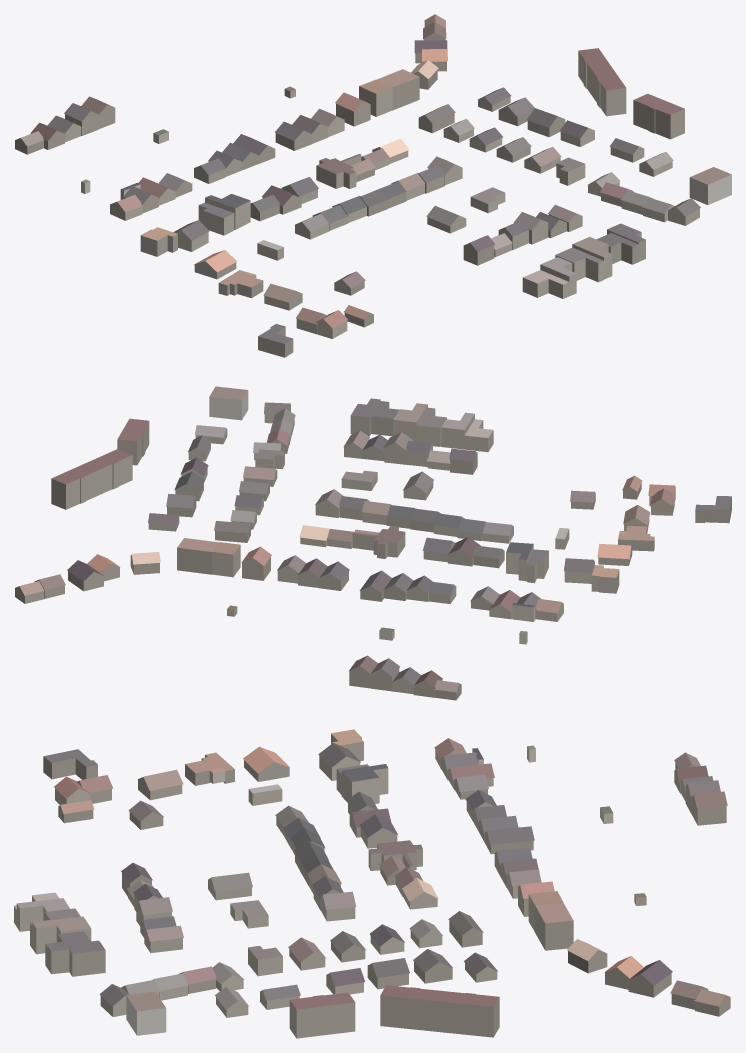
The picture shows the model from 3 angles, top to bottom: view 1: azimuth 30°, elevation 25°; view 2: azimuth 150°, elevation 25°; view 3: azimuth 270°, elevation 25°; orthographic projection. The views are drawn at different scales.
Parts seen in each view (by area): view 1: tuile; view 2: tuile; view 3: tuile.
Boxes of the visible parts, box(x1,y1,x2,y2) form: tuile: box(15, 14, 731, 357); tuile: box(15, 386, 731, 700); tuile: box(14, 729, 730, 1038).
Size of the model in its own units: 263 by 23.18 by 266.
